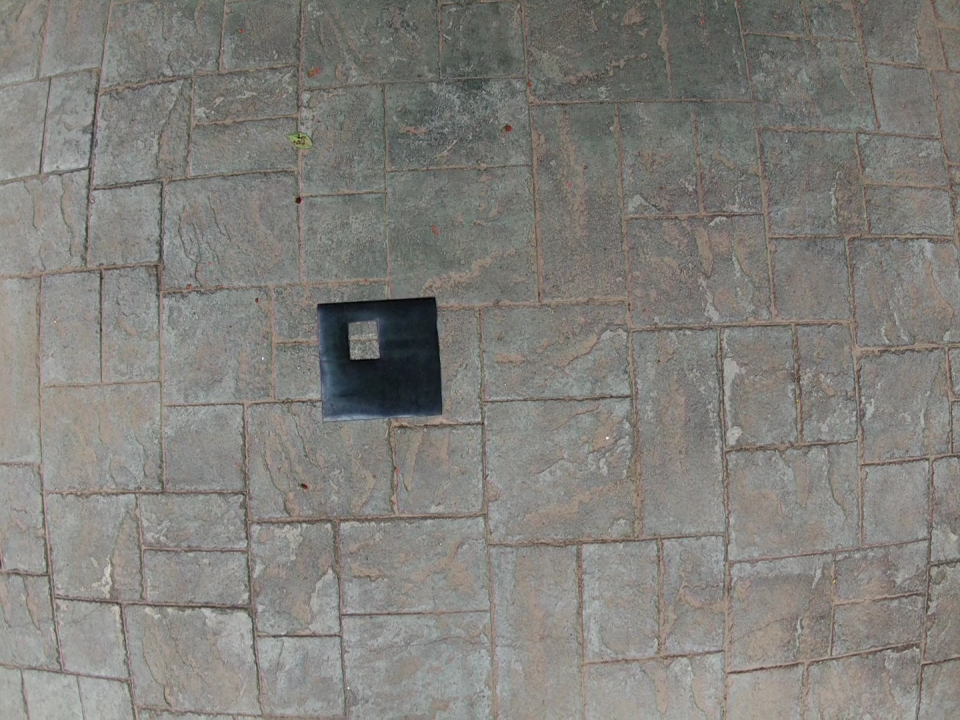qrcode: (318, 297, 442, 417)
